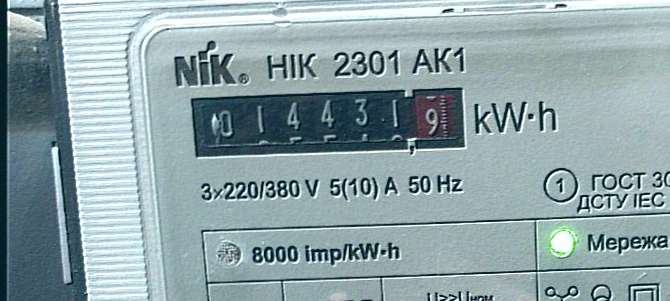0: (218, 104, 238, 137)
1: (254, 99, 272, 132), (391, 94, 404, 126)
3: (354, 94, 373, 126)
4: (285, 96, 306, 129), (320, 93, 338, 127)
9: (425, 102, 442, 133)
screen: (185, 77, 480, 163)
